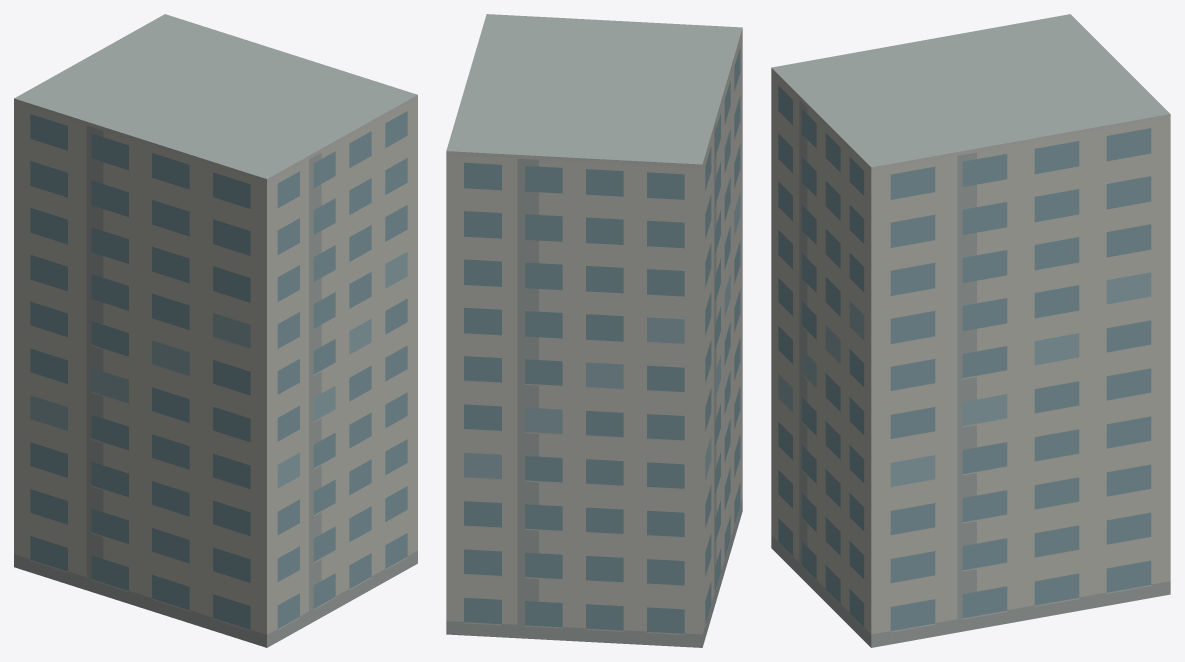
Rendered from residential-5241391d-2271-4317-b2ac-da73f37cfc9f.glb.
The picture shows the model from 3 angles, left to right: view 1: azimuth 30°, elevation 25°; view 2: azimuth 150°, elevation 25°; view 3: azimuth 270°, elevation 25°; orthographic projection. The views are drawn at different scales.
Parts seen in each view (by area): view 1: residential-5241391d-2271-4317-b2ac-da73f37cfc9f.tmp; view 2: residential-5241391d-2271-4317-b2ac-da73f37cfc9f.tmp; view 3: residential-5241391d-2271-4317-b2ac-da73f37cfc9f.tmp.
Part boxes in pixels (left/top/right/bottom): residential-5241391d-2271-4317-b2ac-da73f37cfc9f.tmp: left=14, top=14, right=417, bottom=647; residential-5241391d-2271-4317-b2ac-da73f37cfc9f.tmp: left=446, top=14, right=742, bottom=647; residential-5241391d-2271-4317-b2ac-da73f37cfc9f.tmp: left=771, top=14, right=1170, bottom=647.
Size of the model in its own units: 20.54 by 30 by 22.6.
